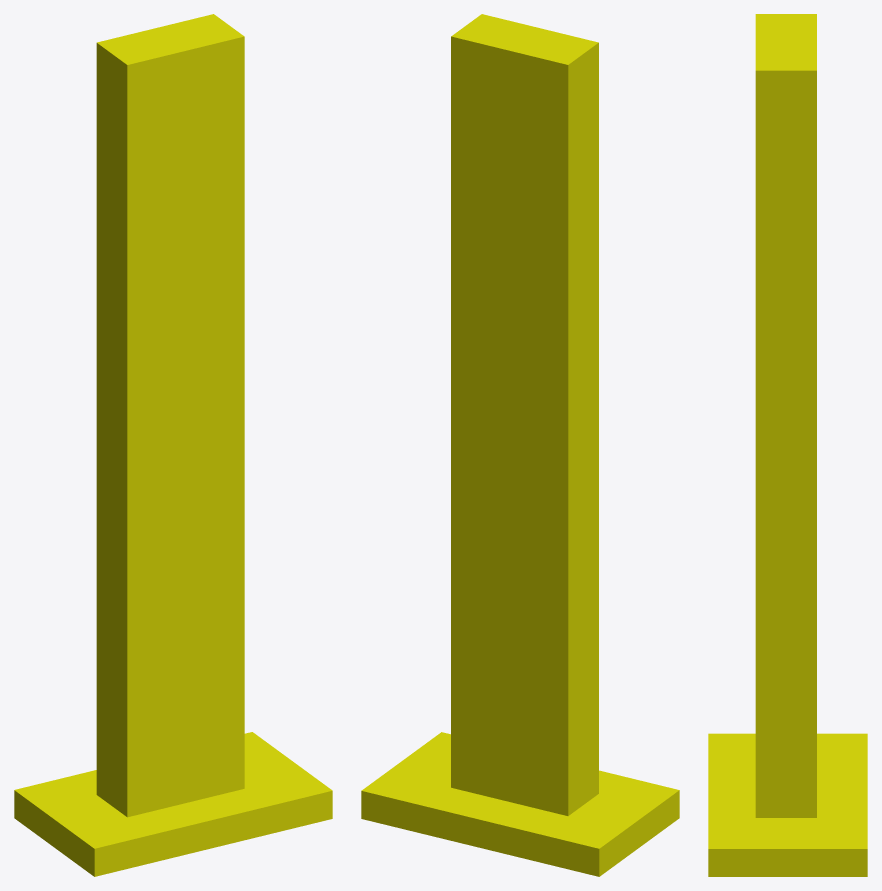
File: Gaz_Station_Pillar_02.fbx
3 renders of one model, left to right at view 1: azimuth 30°, elevation 25°; view 2: azimuth 150°, elevation 25°; view 3: azimuth 270°, elevation 25°, orthographic.
Visible parts, largest first — view 1: Gaz_Station_Pillar_02; view 2: Gaz_Station_Pillar_02; view 3: Gaz_Station_Pillar_02.
Part boxes in pixels (x1,y1,x2,y2): Gaz_Station_Pillar_02: [14, 14, 332, 876]; Gaz_Station_Pillar_02: [361, 14, 679, 876]; Gaz_Station_Pillar_02: [708, 14, 867, 876].
Size of the model in its own units: 130 by 406 by 75.76.
